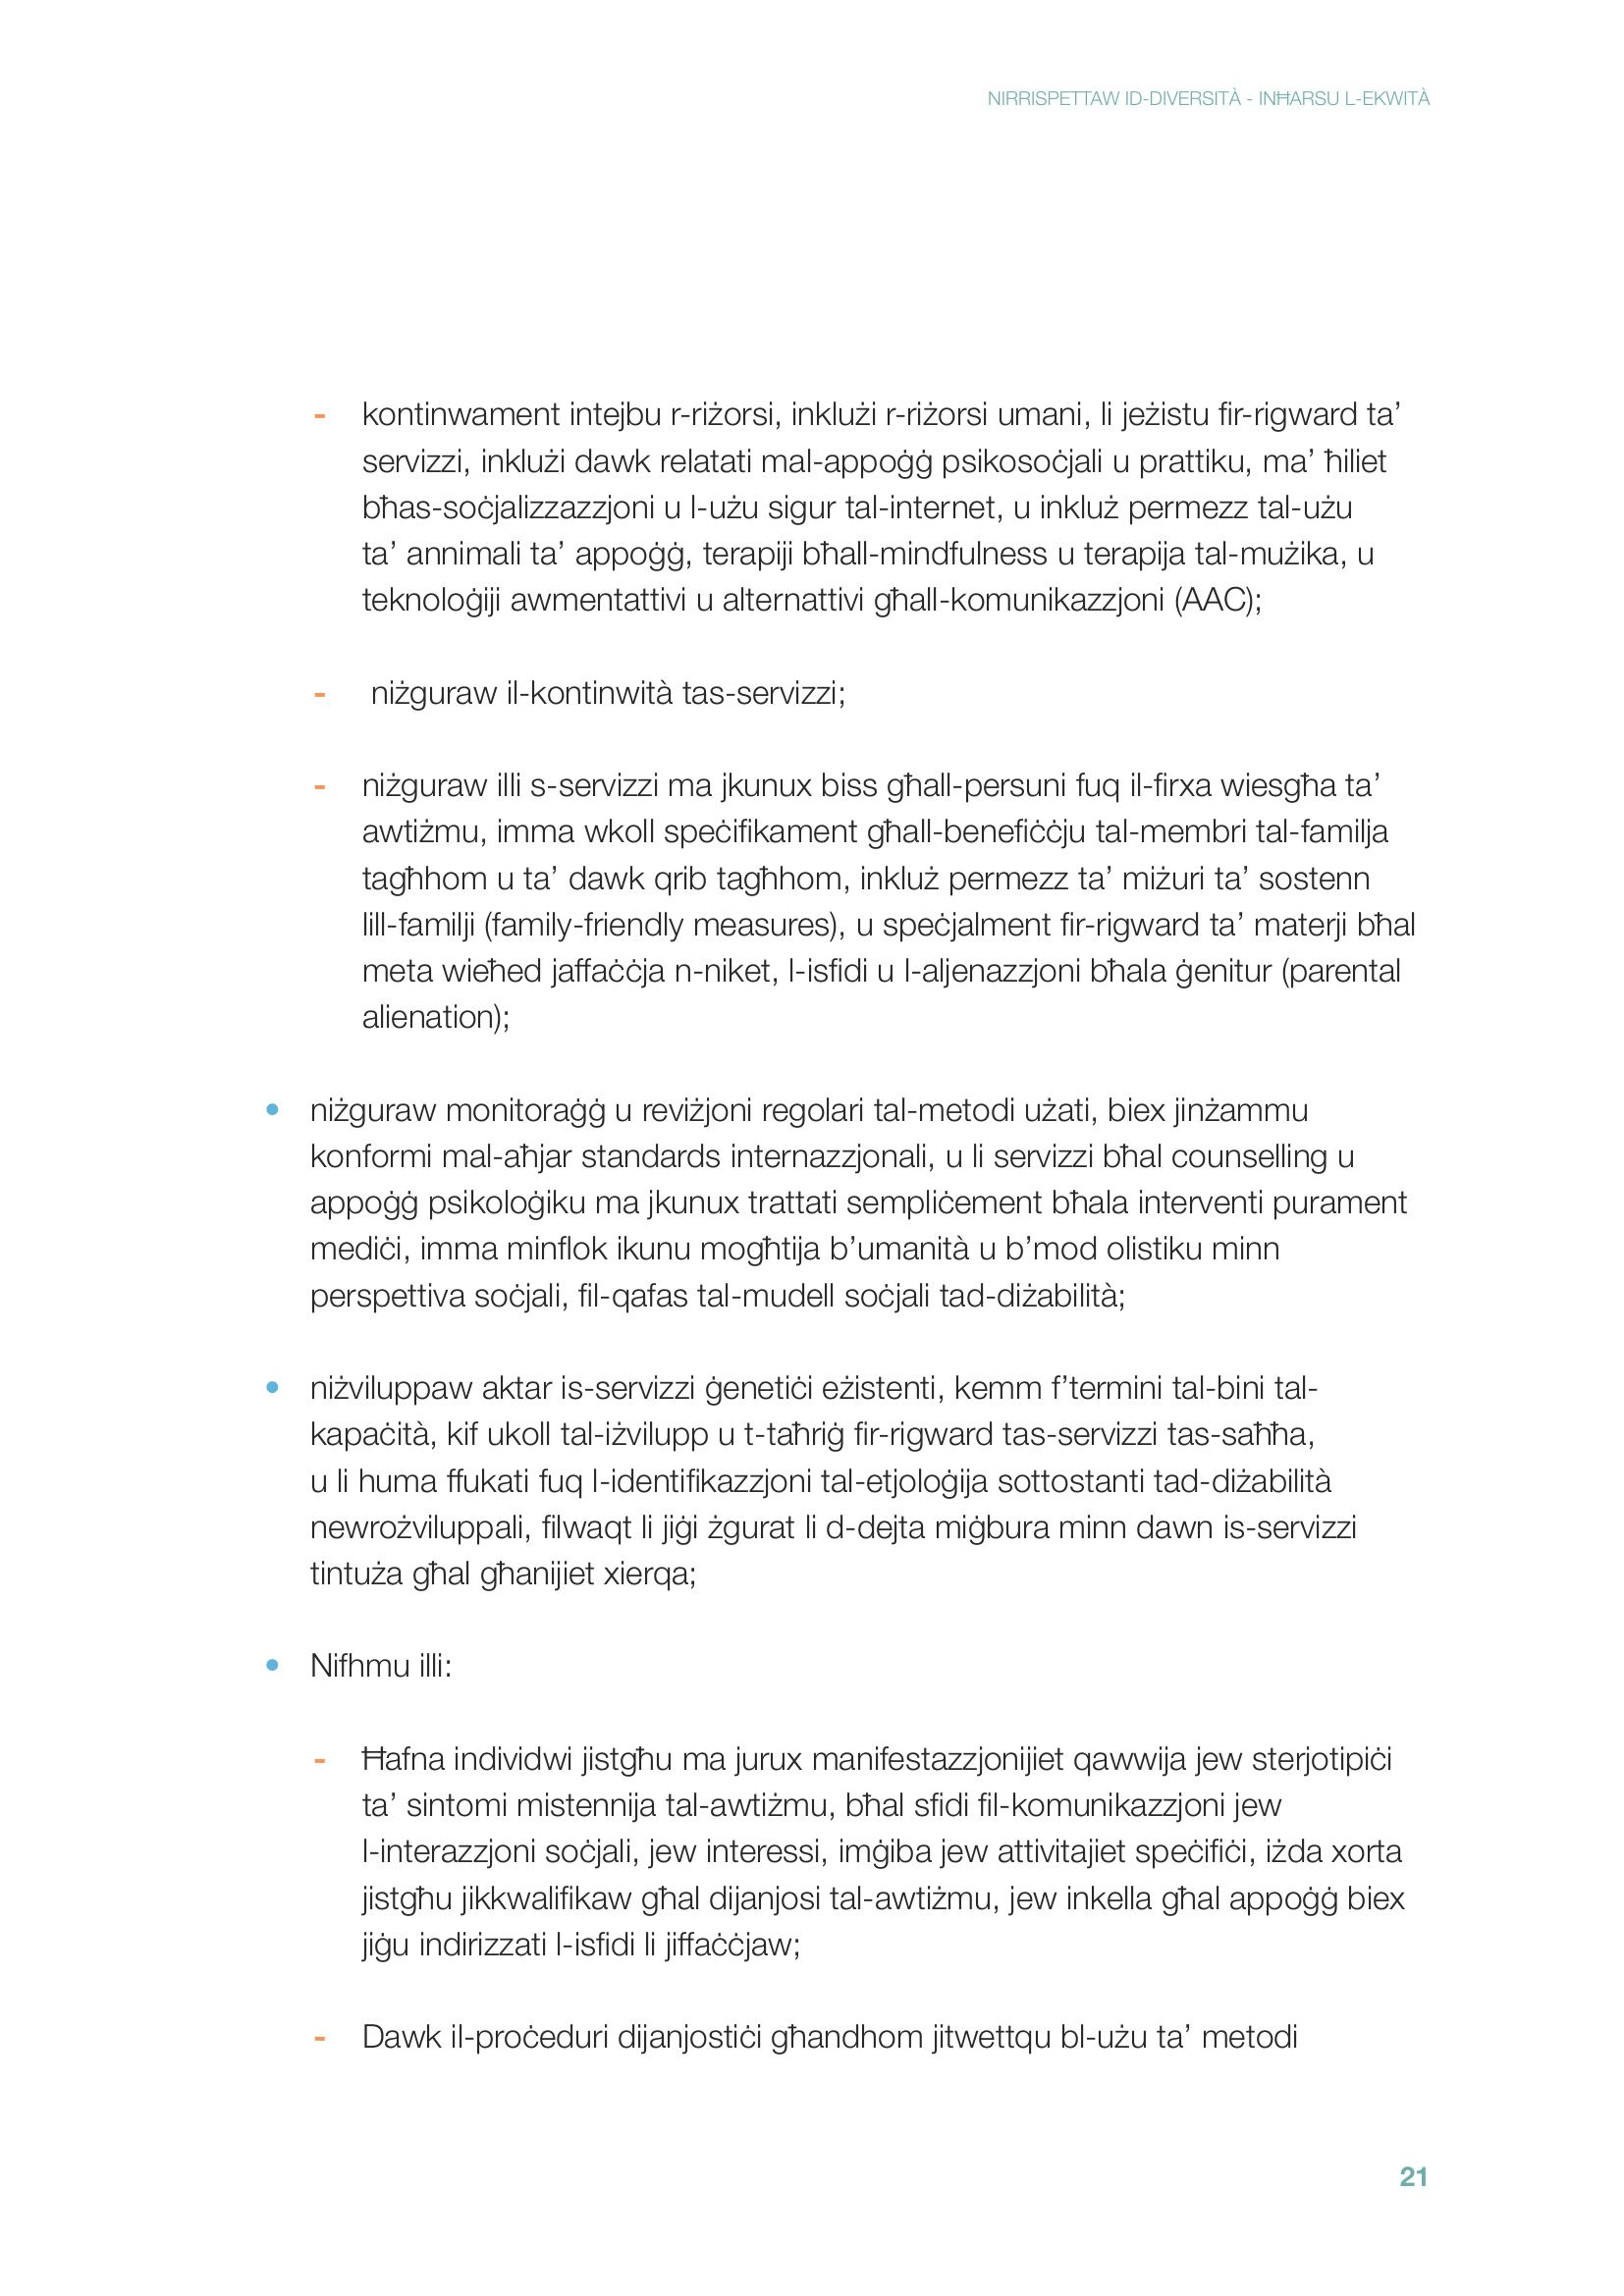text: (241, 369, 1432, 2085)
